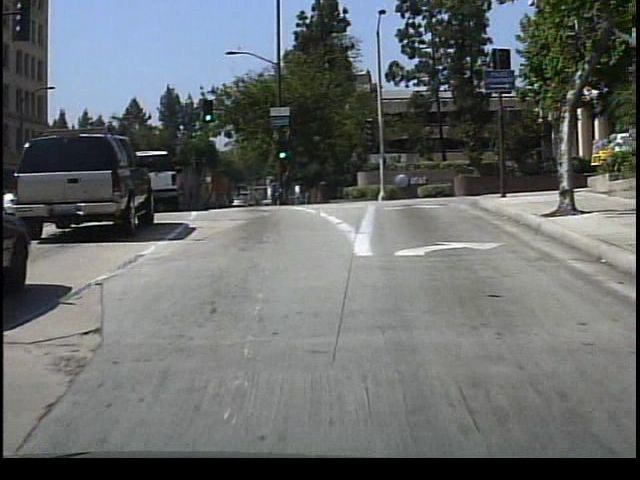person: (265, 171, 285, 208), (292, 179, 306, 206)
